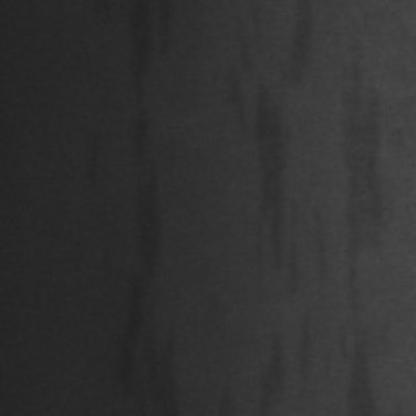inclusion: (108, 2, 181, 397), (242, 9, 318, 293), (335, 42, 393, 399)
